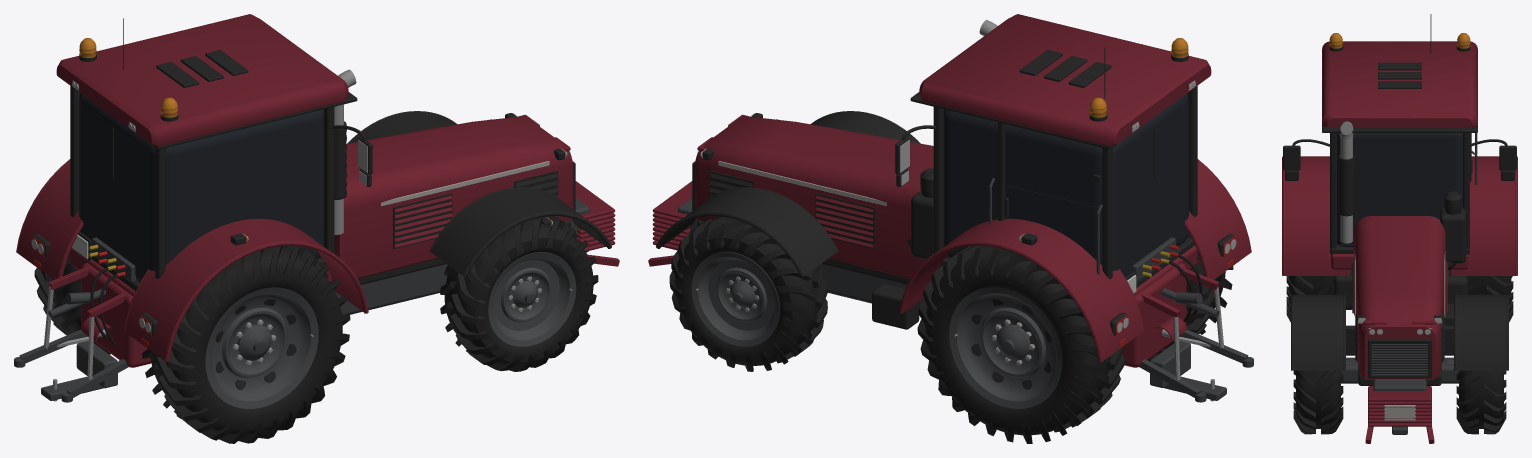
File: SM_Prop_farm_tractor_1.glb
3 views of the same model, side by side, from view 1: azimuth 30°, elevation 25°; view 2: azimuth 150°, elevation 25°; view 3: azimuth 270°, elevation 25° (orthographic). The views are drawn at different scales.
Parts seen in each view (by area): view 1: SM_Prop_farm_tractor_1; view 2: SM_Prop_farm_tractor_1; view 3: SM_Prop_farm_tractor_1.
Boxes of the visible parts, bbox=[...] form: SM_Prop_farm_tractor_1: bbox=[14, 14, 619, 443]; SM_Prop_farm_tractor_1: bbox=[648, 14, 1253, 443]; SM_Prop_farm_tractor_1: bbox=[1282, 14, 1517, 443].
Bounding box in the file's own units: 5.71 × 3.62 × 2.66.
